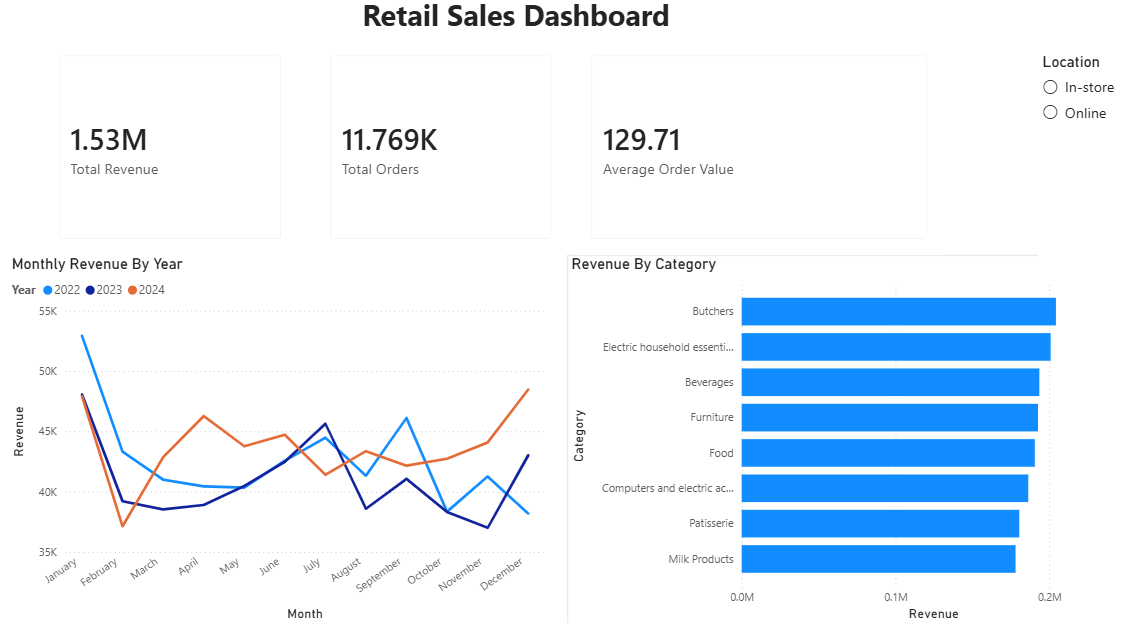

Layout of this report page (visuals, bound fields, positions):
{"tool":"powerbi","page":{"name":"Page 1","canvas":[1280,720],"ordinal":0},"visuals":[{"type":"cardVisual","fields":{"Data":["Sum(cleaned_retail_sales.Total Spent)"]},"box":[58.6,55.7,281.4,238.6],"z":0},{"type":"cardVisual","fields":{"Data":["Count(cleaned_retail_sales.Transaction ID)"]},"box":[360,55.7,280,238.6],"z":1000},{"type":"clusteredBarChart","title":"Revenue By Category","fields":{"Category":["cleaned_retail_sales.Category"],"Y":["Sum(cleaned_retail_sales.Total Spent)"]},"box":[640,294.3,640,411.4],"z":2000},{"type":"lineChart","title":"Monthly Revenue By Year","fields":{"Y":["Sum(cleaned_retail_sales.Total Spent)"],"Category":["cleaned_retail_sales.Transaction Date.Variation.Date Hierarchy.Month"],"Series":["cleaned_retail_sales.Transaction Date.Variation.Date Hierarchy.Year"]},"box":[18.6,294.3,601.4,411.4],"z":3000},{"type":"listSlicer","fields":{"Values":["cleaned_retail_sales.Location"]},"box":[1162.9,70,117.1,254.3],"z":4000},{"type":"cardVisual","fields":{"Data":["cleaned_retail_sales.Average Order Value"]},"box":[650,55.7,407.1,238.6],"z":5000},{"type":"textbox","box":[298.6,0,570,55.7],"z":5001}]}

Visuals, with their boxes in screenshot pixels (x1, y1, x2, y2), scaled from the page's 1280x720 canvas onto the 1137x623 screenshot:
cardVisual - Sum(cleaned_retail_sales.Total Spent): BBox(52, 48, 302, 255)
cardVisual - Count(cleaned_retail_sales.Transaction ID): BBox(320, 48, 568, 255)
"Revenue By Category" clusteredBarChart: BBox(568, 255, 1136, 611)
"Monthly Revenue By Year" lineChart: BBox(17, 255, 551, 611)
listSlicer - cleaned_retail_sales.Location: BBox(1033, 61, 1136, 281)
cardVisual - cleaned_retail_sales.Average Order Value: BBox(577, 48, 939, 255)
textbox: BBox(265, 0, 772, 48)
